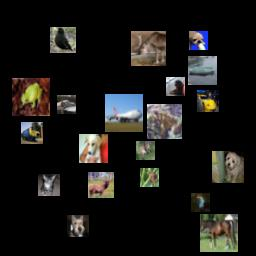airplane: (105, 94, 143, 132), (57, 95, 76, 114)
automobile: (197, 90, 219, 112)
bird: (50, 27, 76, 53), (191, 193, 210, 212)
cat: (38, 174, 60, 196), (136, 141, 155, 160)
deer: (131, 31, 166, 66), (88, 172, 114, 198)
dog: (212, 151, 244, 183), (79, 134, 108, 163), (67, 215, 89, 237), (189, 31, 208, 50), (166, 77, 185, 96)
frog: (12, 78, 50, 116), (147, 104, 182, 139), (140, 168, 159, 187)
ship: (188, 56, 217, 85)
truck: (21, 122, 43, 144)
